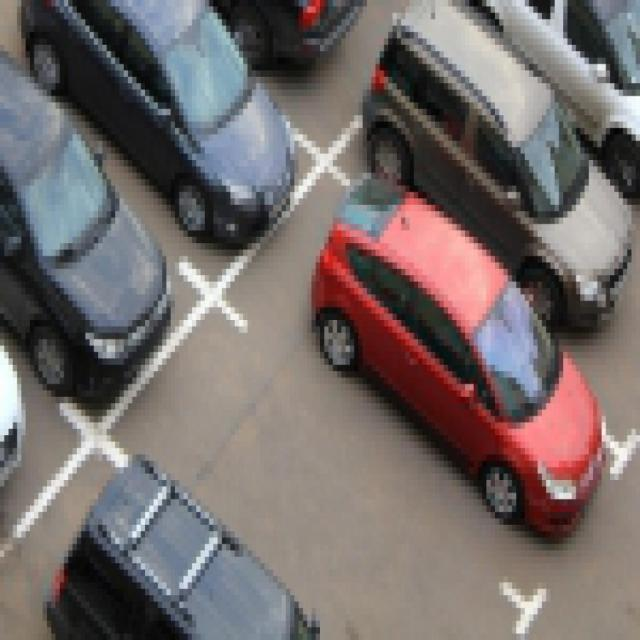car: (273, 182, 593, 508), (358, 74, 636, 362), (30, 0, 312, 256), (0, 112, 184, 400), (17, 454, 269, 634)
free: (132, 358, 512, 634)
